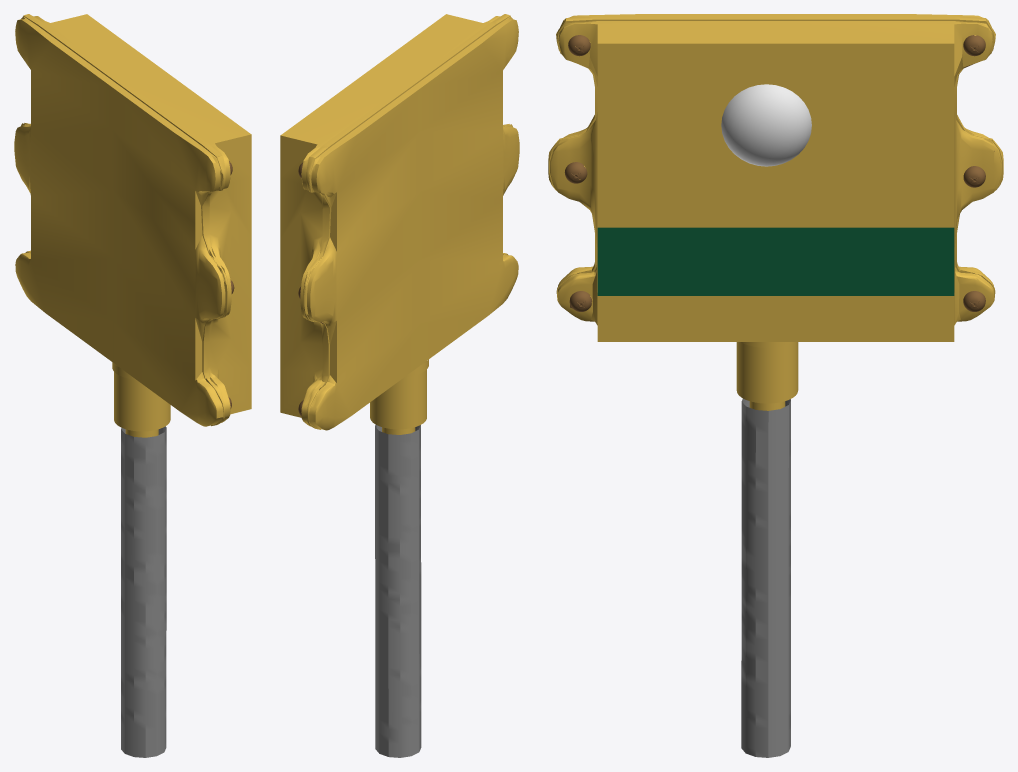
File: illumination_sensor.glb
The picture shows the model from 3 angles, left to right: view 1: azimuth 30°, elevation 25°; view 2: azimuth 150°, elevation 25°; view 3: azimuth 270°, elevation 25°; orthographic projection. The views are drawn at different scales.
Visible parts, largest first — view 1: illumination_sensor; view 2: illumination_sensor; view 3: illumination_sensor.
Part boxes in pixels (<box>): illumination_sensor: <box>14,14,251,757</box>; illumination_sensor: <box>280,14,519,757</box>; illumination_sensor: <box>548,14,1003,757</box>.
Size of the model in its own units: 0.1174 by 0.9622 by 0.5507.
